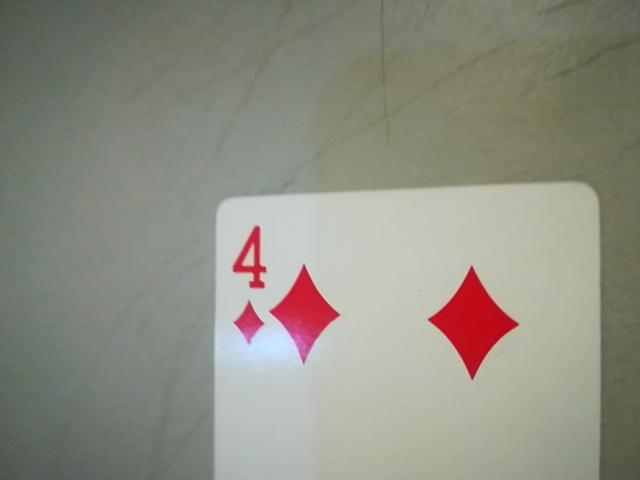fk 4: (216, 215, 279, 353)
